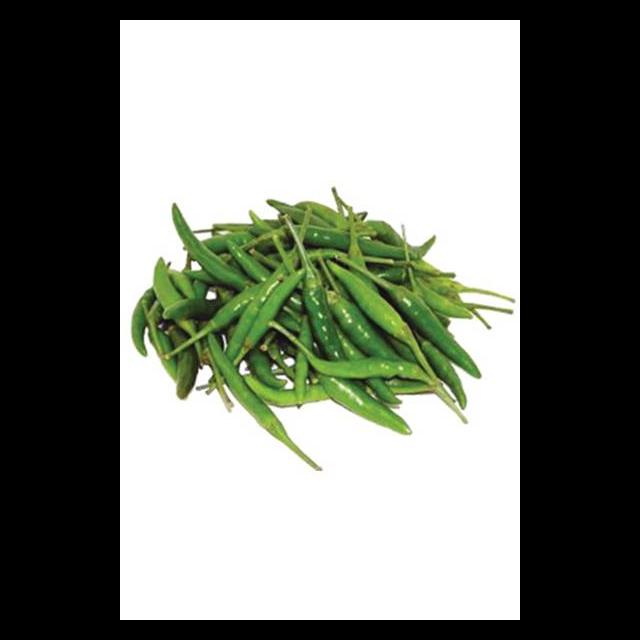chili_pepper: (207, 335, 320, 470), (387, 286, 481, 378), (328, 261, 419, 356), (171, 203, 249, 292), (166, 286, 261, 358), (234, 269, 304, 364), (293, 338, 430, 384), (319, 376, 412, 436), (226, 265, 284, 360), (327, 291, 401, 360), (153, 258, 182, 308)
